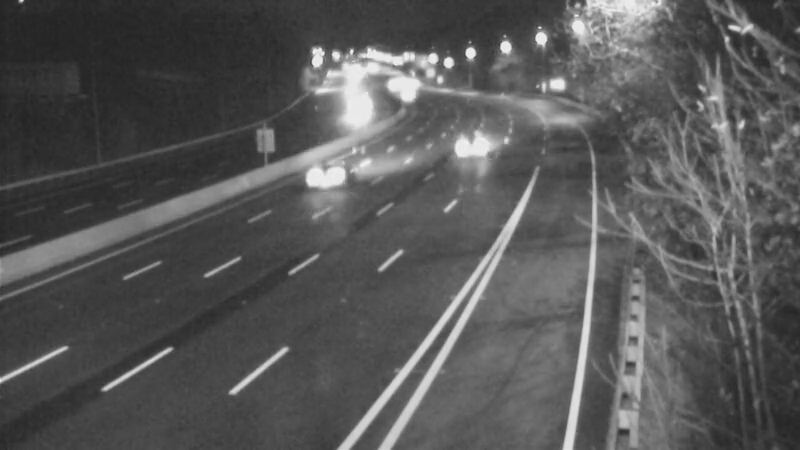vehicle: (289, 133, 369, 213), (379, 70, 429, 120), (448, 113, 498, 163), (332, 86, 382, 136)
